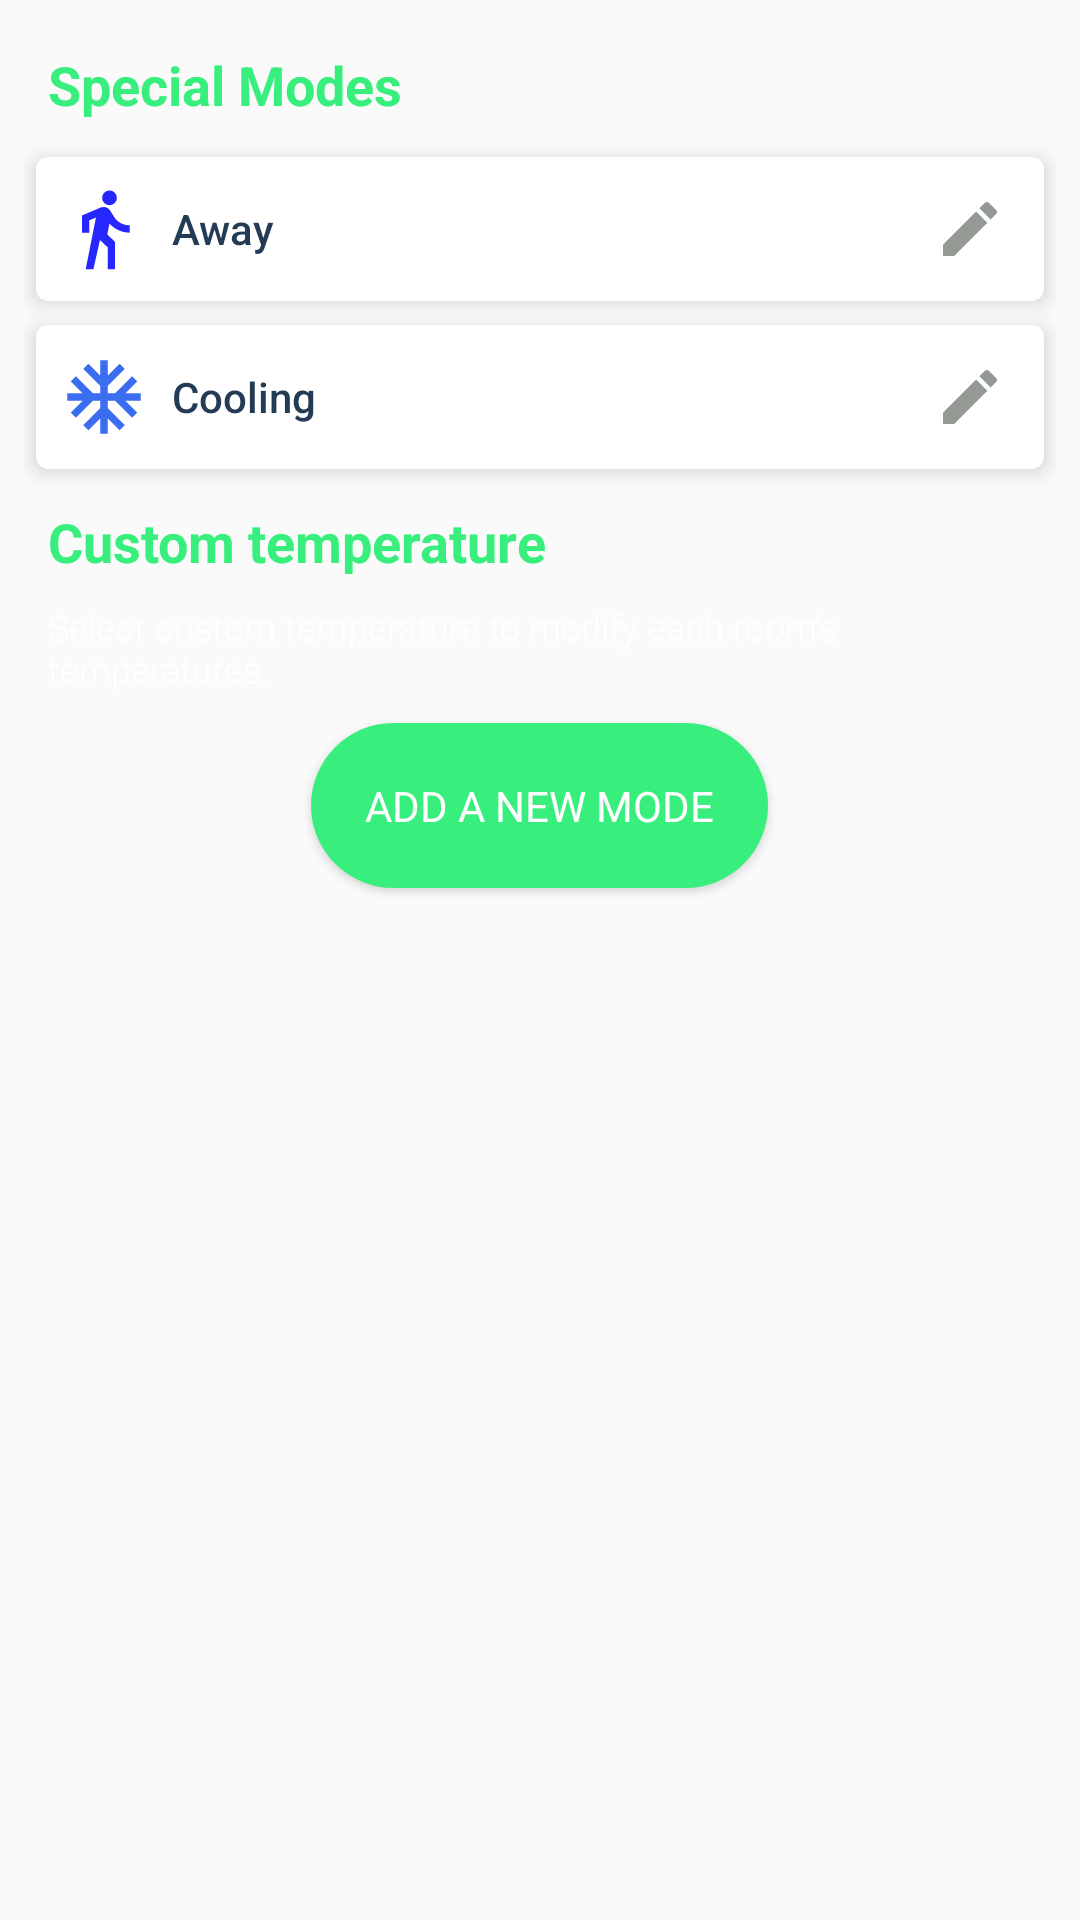

Icon click points for this 1080px x 1920px phone screenshot, format (x,y):
ac unit: (104,397)
directions walk: (106,230)
mode edit: (970,229), (970,397)
